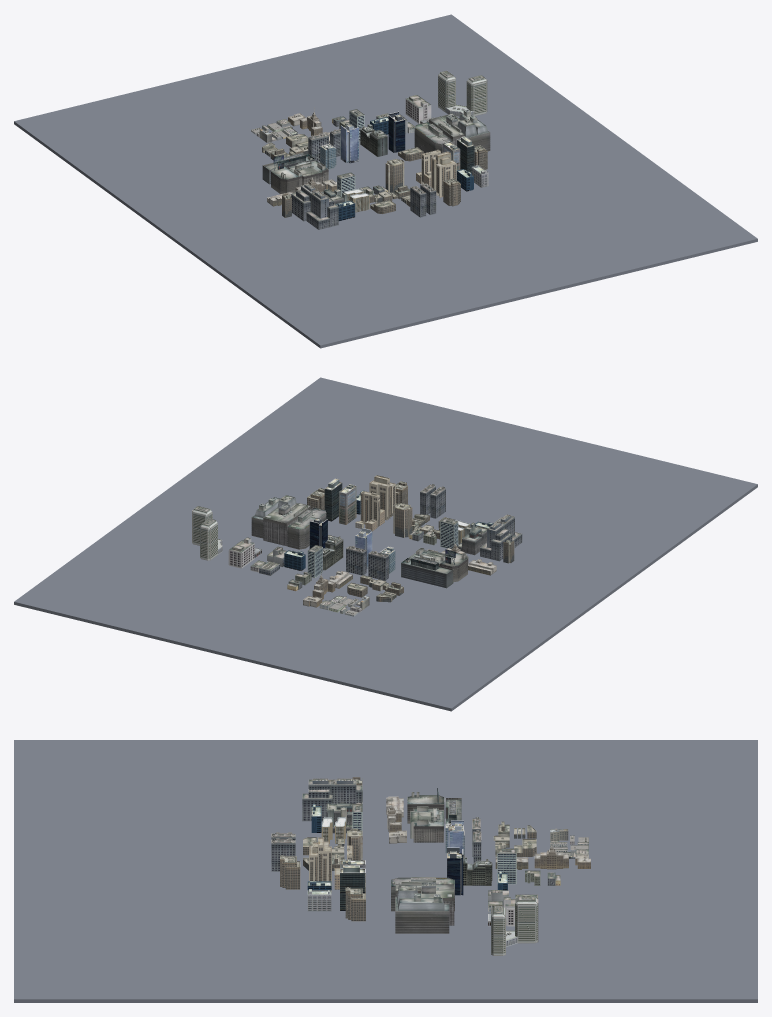
The picture shows the model from 3 angles, top to bottom: view 1: azimuth 30°, elevation 25°; view 2: azimuth 150°, elevation 25°; view 3: azimuth 270°, elevation 25°; orthographic projection. The views are drawn at different scales.
Visible parts, largest first — view 1: Box01, Line22, Shape03, Shape01, Box03, PJL_HWX_474, PJL_HWX_505, PJL_HWX_507, Line29, Line13, Box02, Line01dfhdfhdh (+1 smaller); view 2: Box01, Shape03, Line22, Shape01, PJL_HWX_474, Box03, PJL_HWX_507, Rectangle36, PJL_HWX_506, Rectangle49, Line01dfhdfhdh, Rectangle43 (+4 smaller); view 3: Box01, Shape03, Line22, Shape01, Box03, PJL_HWX_474, PJL_HWX_506, Rectangle49, PJL_HWX_507, PJL_HWX_480, Line01dfhdfhdh, Line13 (+9 smaller).
Part boxes in pixels (x1=…): Box01: x1=14, y1=14, x2=757, y2=348; Line22: x1=376, y1=70, x2=487, y2=133; Shape03: x1=414, y1=109, x2=490, y2=153; Shape01: x1=262, y1=153, x2=328, y2=194; Box03: x1=291, y1=183, x2=338, y2=229; PJL_HWX_474: x1=416, y1=149, x2=456, y2=197; PJL_HWX_505: x1=369, y1=185, x2=410, y2=213; PJL_HWX_507: x1=262, y1=134, x2=308, y2=160; Line29: x1=340, y1=124, x2=358, y2=163; Line13: x1=360, y1=124, x2=387, y2=156; Box02: x1=388, y1=111, x2=405, y2=152; Line01dfhdfhdh: x1=251, y1=119, x2=298, y2=142; Box01: x1=14, y1=377, x2=757, y2=711; Shape03: x1=251, y1=495, x2=326, y2=549; Line22: x1=192, y1=506, x2=286, y2=575; Shape01: x1=401, y1=547, x2=467, y2=588; PJL_HWX_474: x1=355, y1=475, x2=395, y2=531; Box03: x1=480, y1=514, x2=522, y2=561; PJL_HWX_507: x1=347, y1=575, x2=403, y2=602; Rectangle36: x1=409, y1=518, x2=458, y2=548; PJL_HWX_506: x1=303, y1=570, x2=352, y2=607; Rectangle49: x1=287, y1=545, x2=322, y2=590; Line01dfhdfhdh: x1=319, y1=595, x2=369, y2=616; Rectangle43: x1=339, y1=484, x2=356, y2=524; Box01: x1=14, y1=740, x2=757, y2=1002; Shape03: x1=391, y1=877, x2=454, y2=933; Line22: x1=488, y1=890, x2=538, y2=955; Shape01: x1=407, y1=788, x2=461, y2=842; Box03: x1=302, y1=778, x2=362, y2=821; PJL_HWX_474: x1=309, y1=837, x2=365, y2=892; PJL_HWX_506: x1=495, y1=839, x2=590, y2=869; Rectangle49: x1=497, y1=848, x2=560, y2=885; PJL_HWX_507: x1=493, y1=821, x2=536, y2=856; PJL_HWX_480: x1=386, y1=796, x2=406, y2=843; Line01dfhdfhdh: x1=550, y1=828, x2=588, y2=858; Line13: x1=463, y1=854, x2=492, y2=885.
Size of the model in its own units: 102658 by 9289 by 124546.
22 materials, 21 textured.
